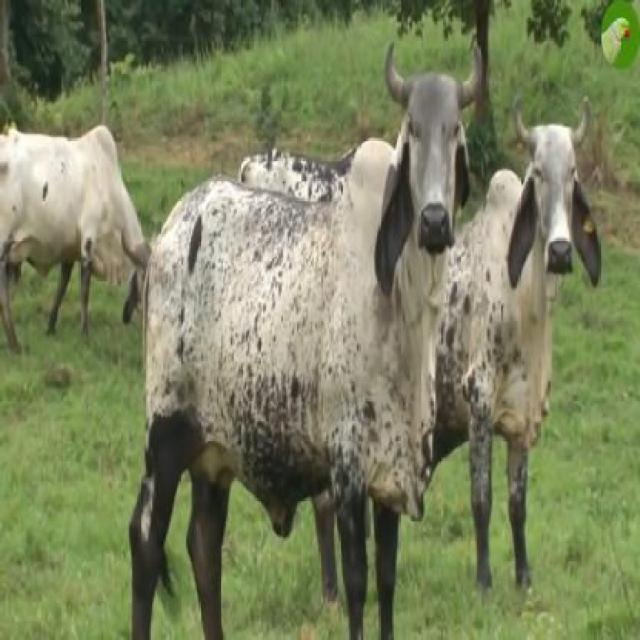Cow: (129, 44, 485, 638), (458, 91, 591, 571)
